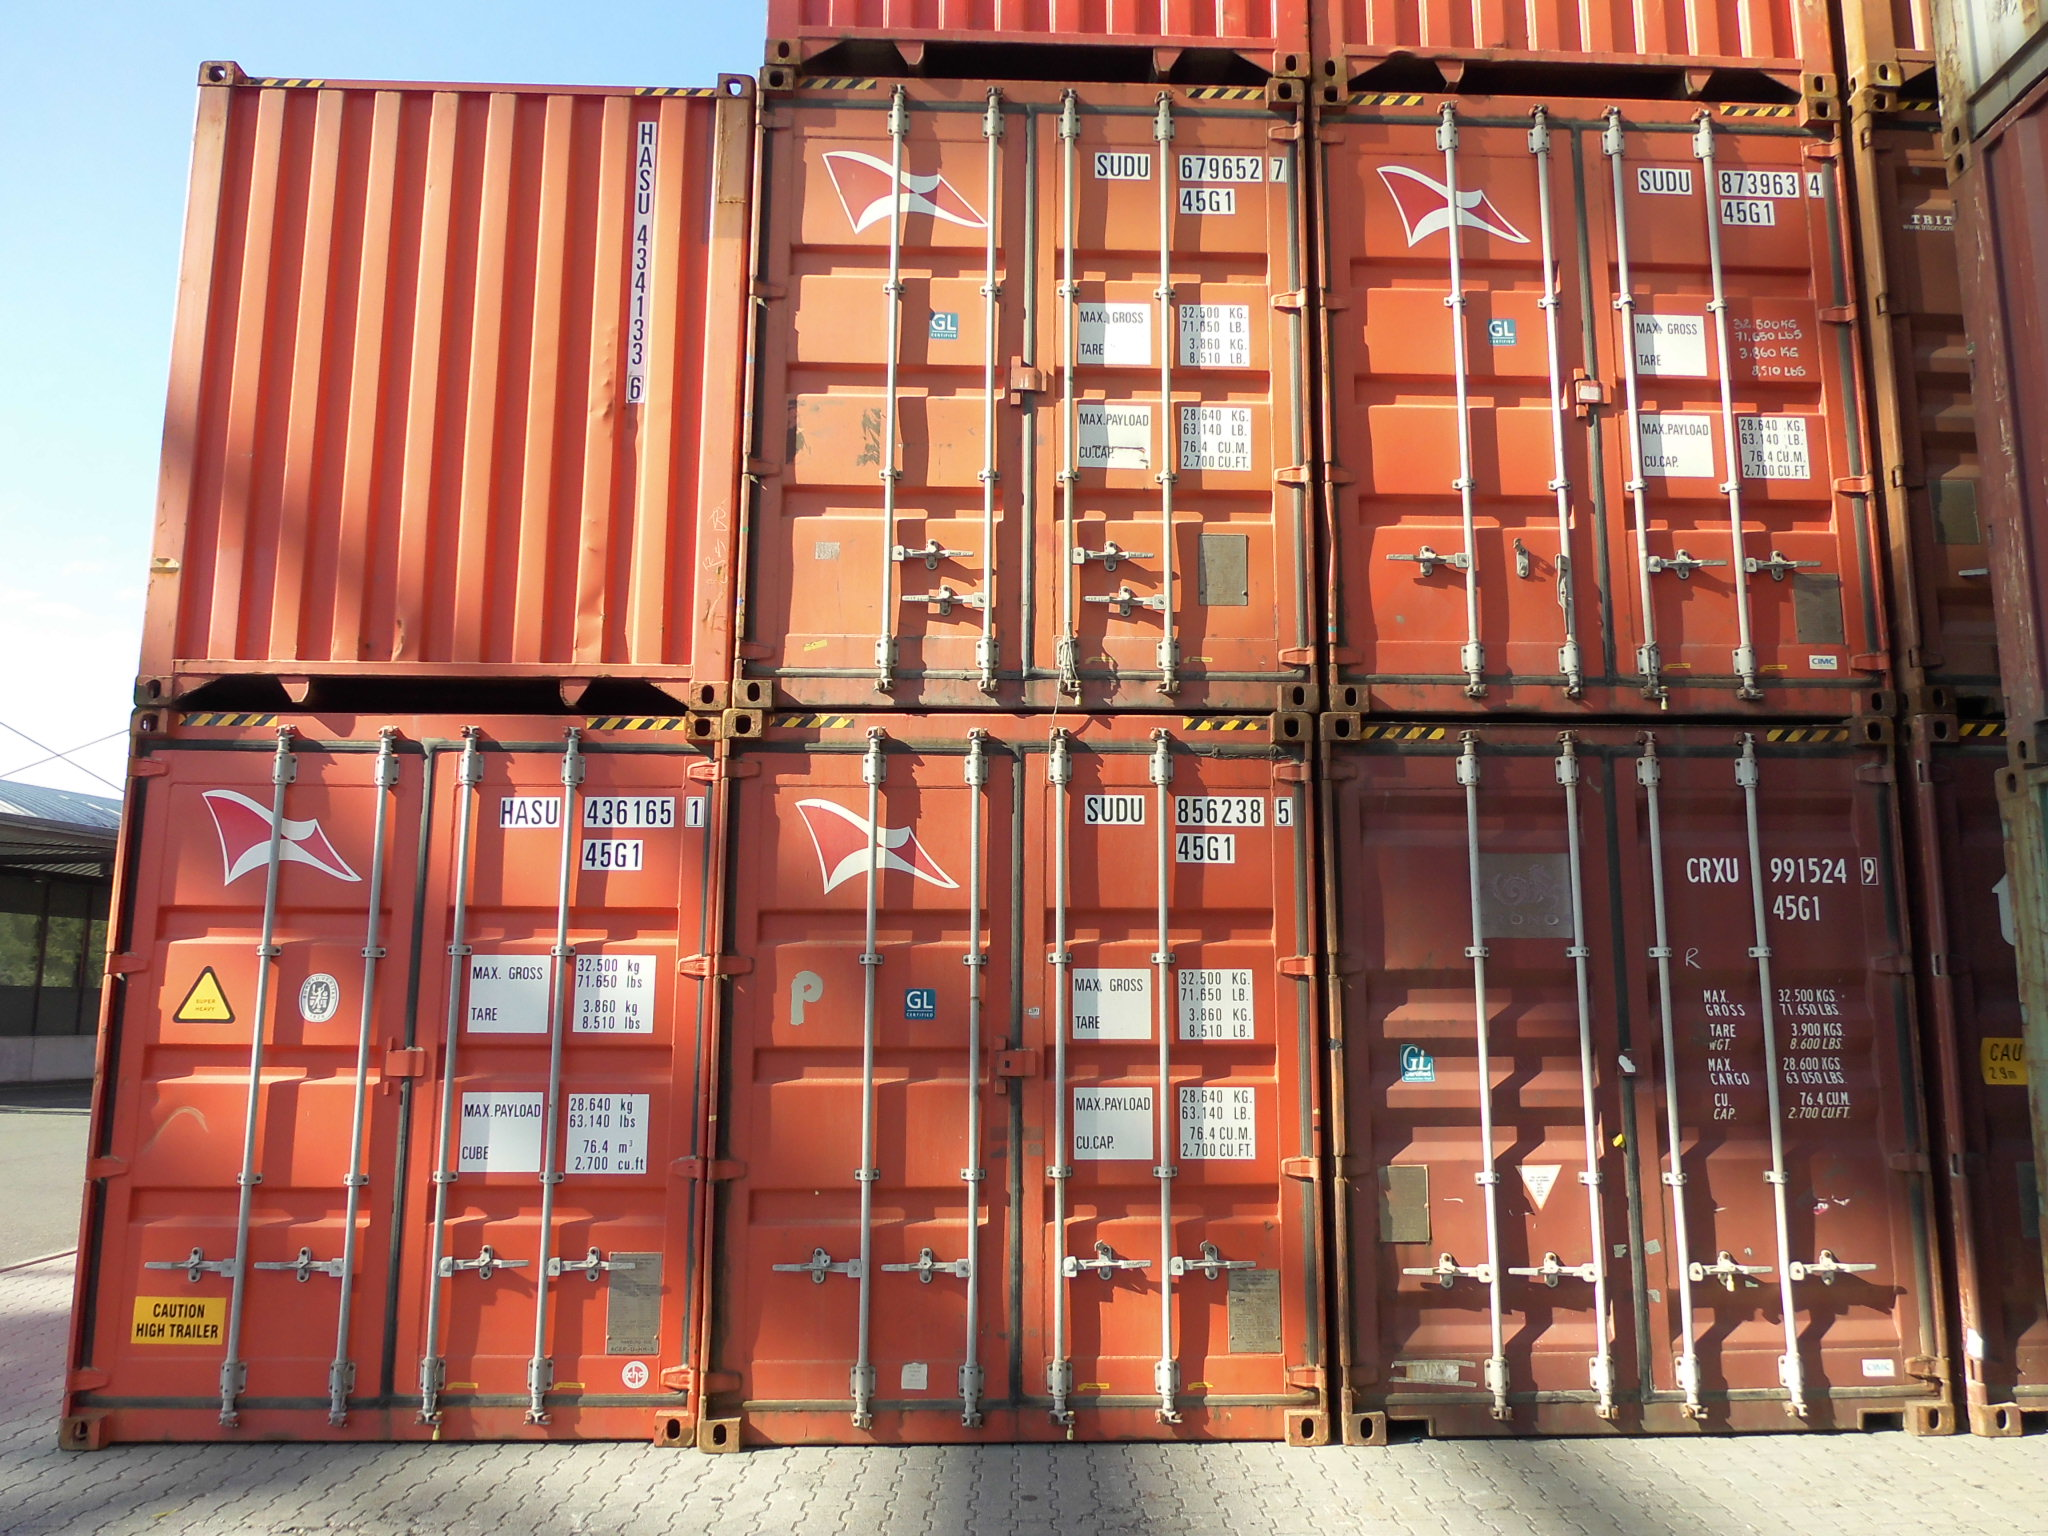container_door: (1319, 712, 1927, 1442), (718, 716, 1306, 1450), (116, 716, 705, 1449), (748, 77, 1322, 703), (1314, 81, 1887, 705)
container_no_door: (202, 56, 735, 700)
